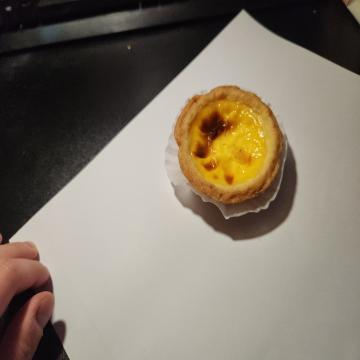EggTart: (174, 86, 284, 204)
